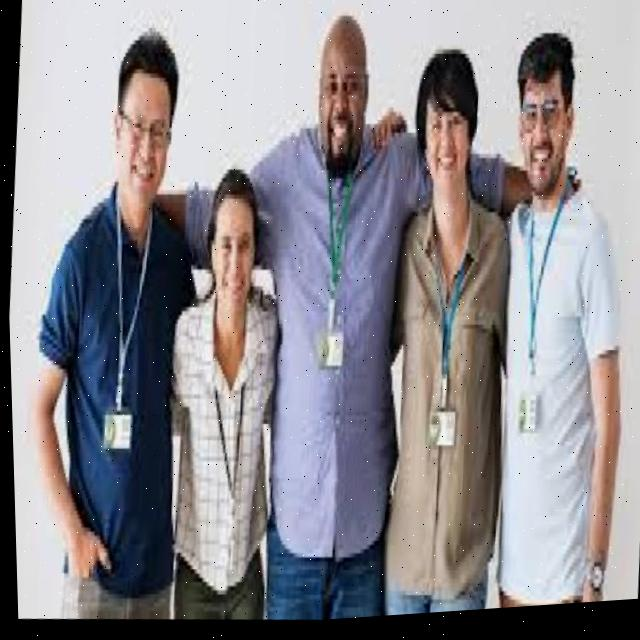id_card: (86, 183, 156, 455), (193, 342, 259, 571), (504, 201, 557, 442), (420, 252, 473, 457), (312, 175, 362, 378)
